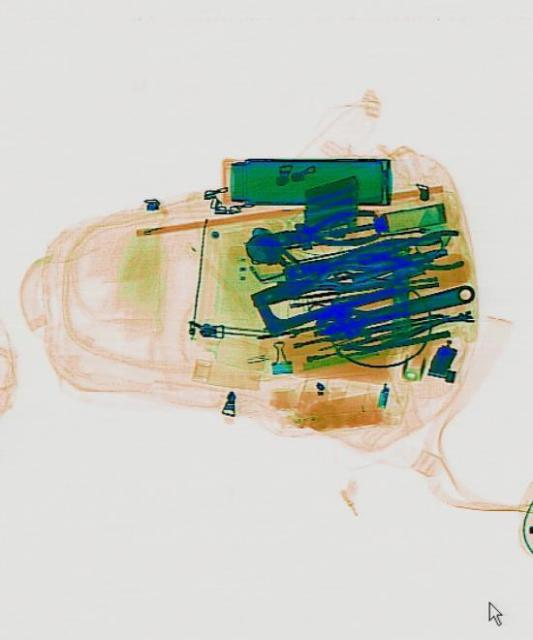Pliers: (249, 202, 378, 260), (354, 224, 463, 280)
Wrench: (308, 274, 476, 344)
